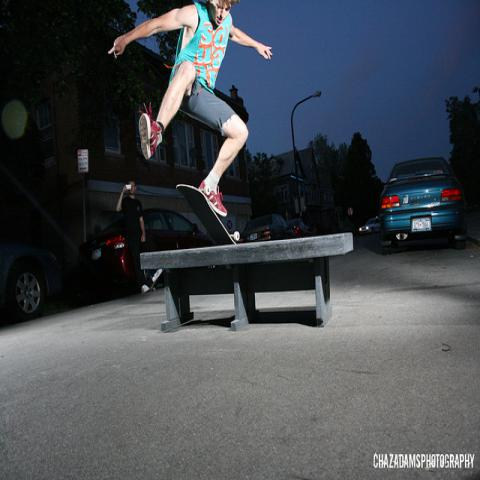car: (78, 207, 215, 287), (378, 156, 468, 254), (0, 230, 63, 322), (239, 213, 296, 242), (286, 218, 318, 237), (360, 217, 381, 238)
